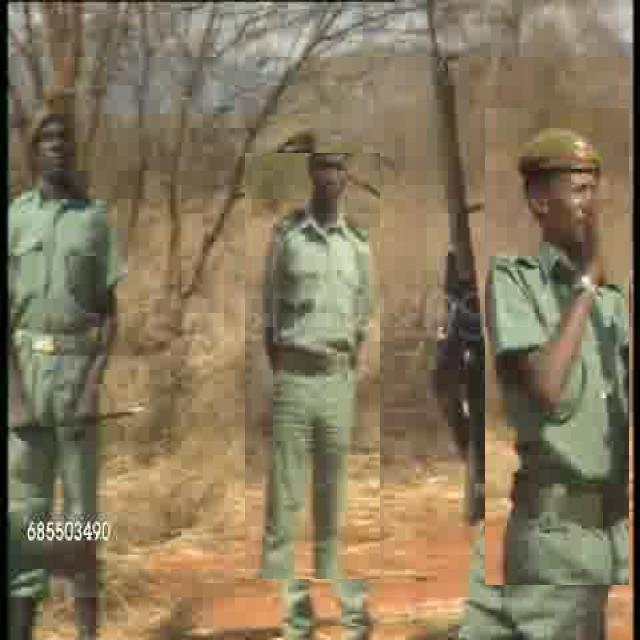poacher: (486, 108, 630, 585), (3, 103, 122, 613), (245, 153, 380, 579)
weapon: (424, 10, 489, 512)
